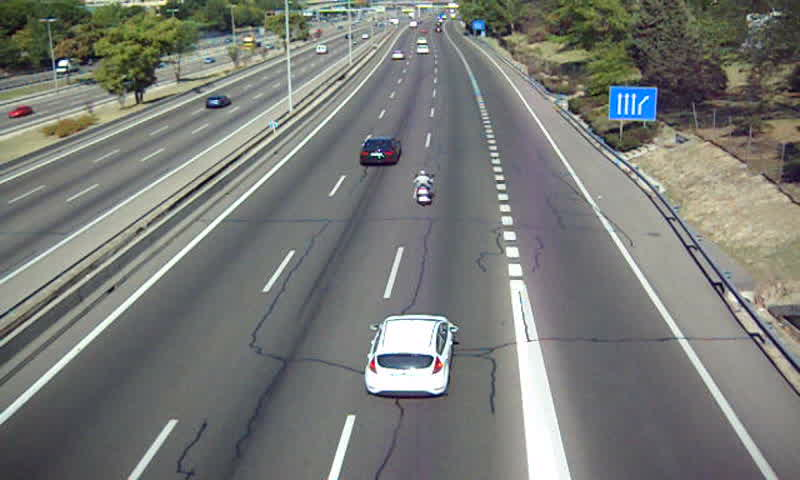car: (365, 316, 454, 396), (360, 138, 401, 166)
motorcycle: (412, 168, 436, 206)
